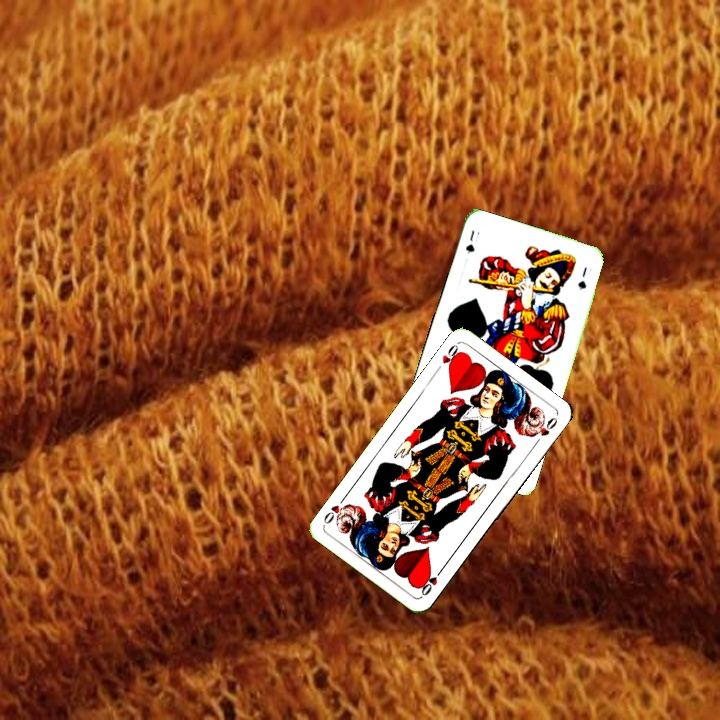GU: (461, 226, 477, 256)
HO: (432, 340, 464, 375), (417, 564, 446, 598)
